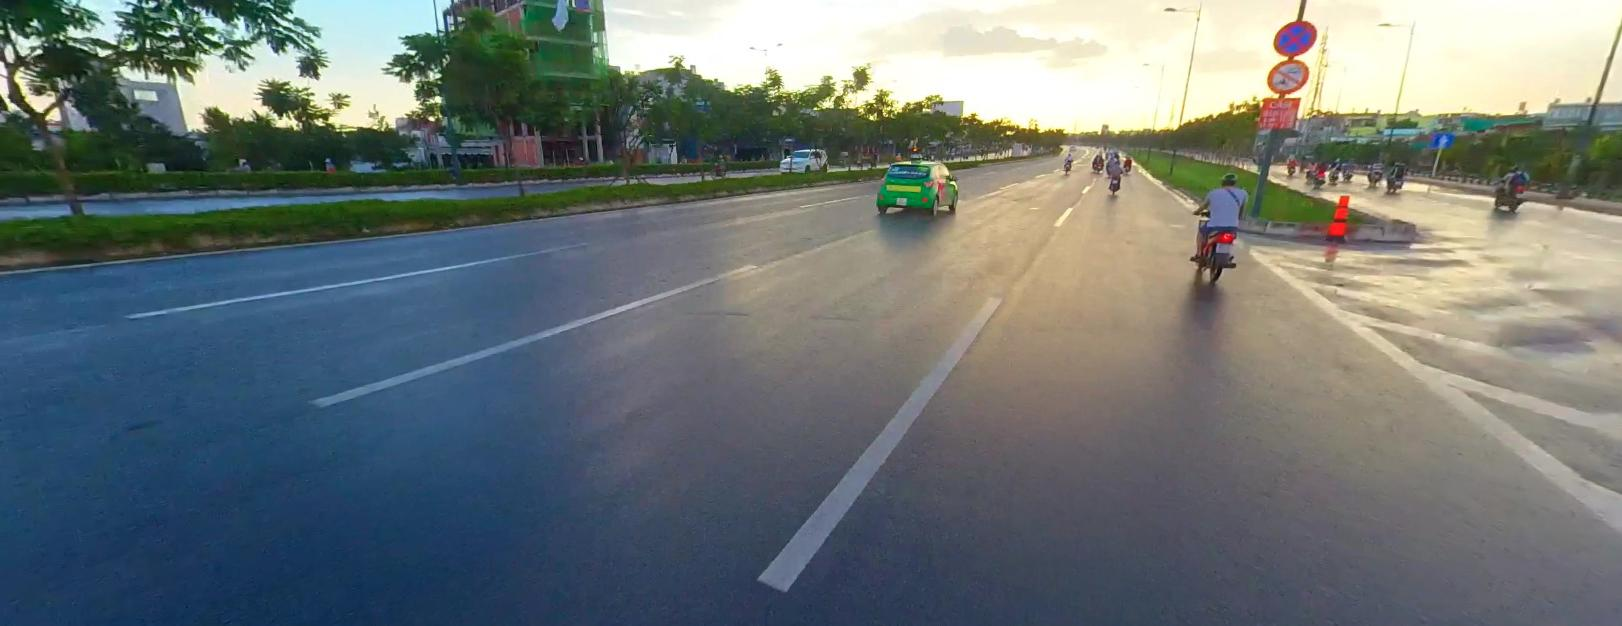Cam con lai: (1266, 59, 1309, 92), (1267, 59, 1308, 92)
Cam dung va do: (1273, 20, 1315, 56), (1274, 20, 1316, 56)
